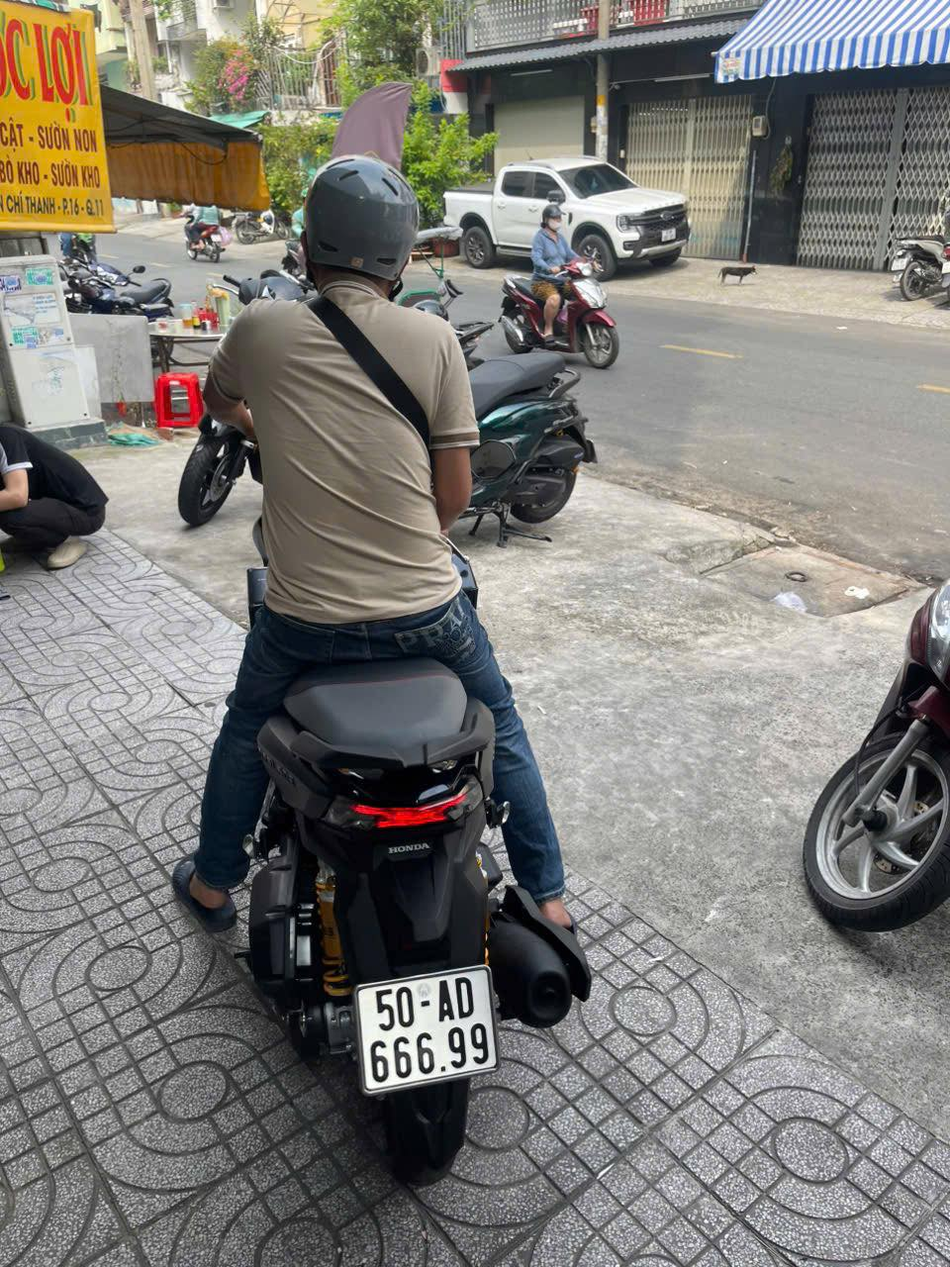bien_so: (341, 957, 507, 1101)
